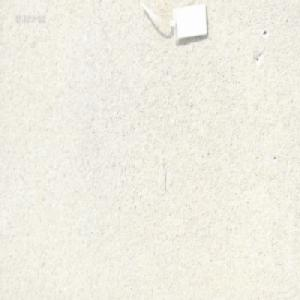LuggageTag: (136, 0, 209, 44)
